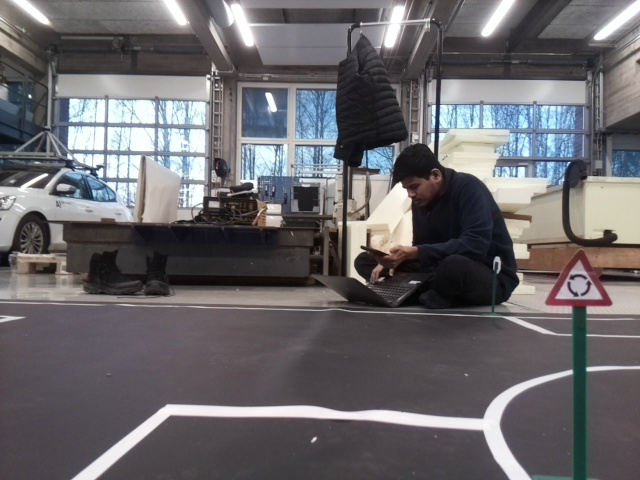Roundabout: (540, 248, 610, 303)
